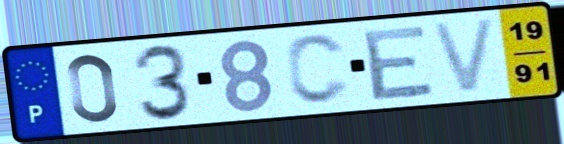0: (65, 51, 120, 125)
3: (131, 42, 194, 123)
8: (216, 37, 276, 114)
C: (283, 31, 354, 107)
E: (361, 22, 439, 103)
V: (426, 14, 501, 98)
